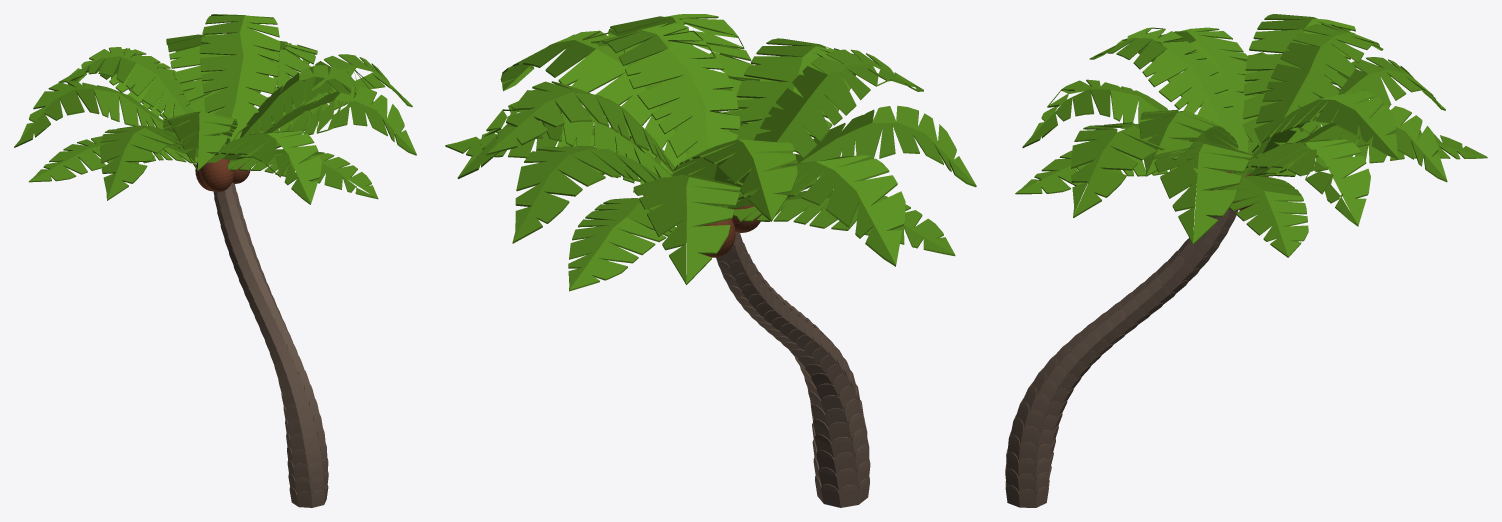
Rendered from low_poly_palm_tree.glb.
The picture shows the model from 3 angles, left to right: view 1: azimuth 30°, elevation 25°; view 2: azimuth 150°, elevation 25°; view 3: azimuth 270°, elevation 25°; orthographic projection. The views are drawn at different scales.
Visible parts, largest first — view 1: leaves_7, tronc_0, noix de coco_3; view 2: leaves_7, tronc_0; view 3: leaves_7, tronc_0.
Boxes of the visible parts, bbox=[...] form: leaves_7: bbox=[14, 14, 416, 204]; tronc_0: bbox=[213, 182, 328, 507]; noix de coco_3: bbox=[200, 158, 233, 191]; leaves_7: bbox=[445, 14, 976, 291]; tronc_0: bbox=[716, 232, 870, 507]; leaves_7: bbox=[1015, 14, 1487, 257]; tronc_0: bbox=[1005, 209, 1238, 507].
Size of the model in its own units: 15.7 by 15.63 by 15.64.
